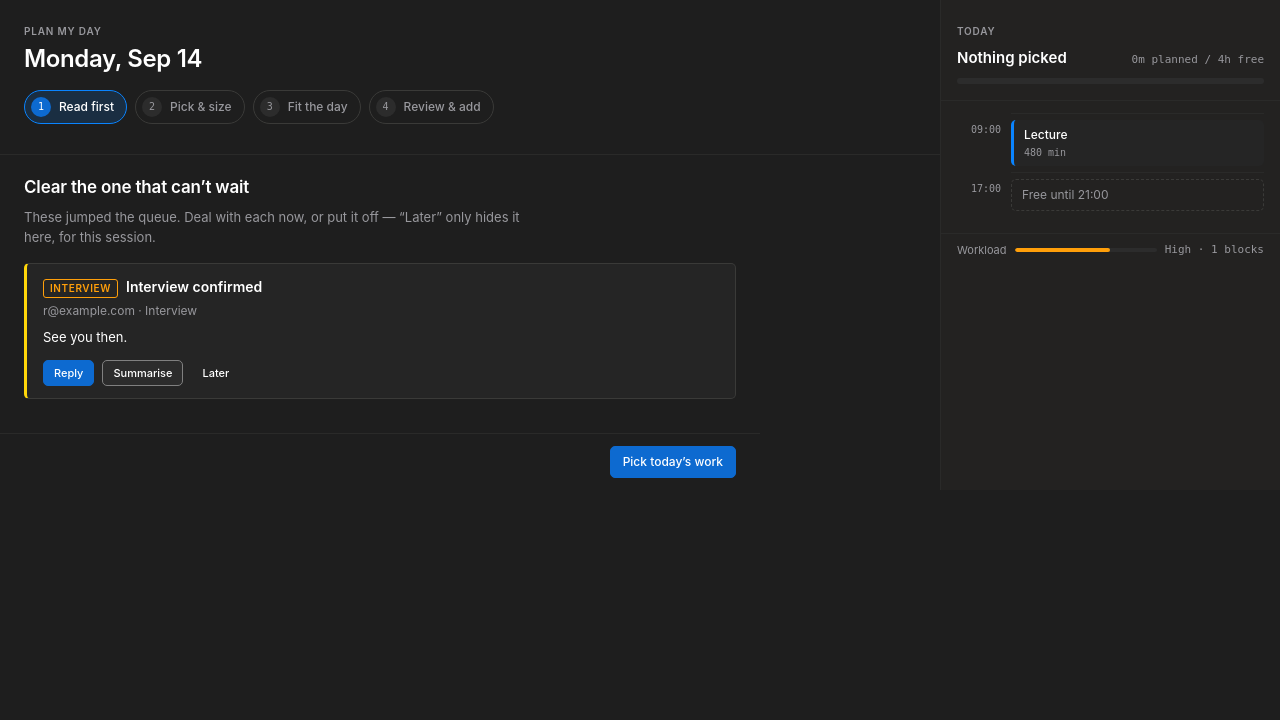
Test: Plan my day › puts a must-read off for the session with Later
This screenshot has width=1280, height=720.
Step 1. Click the button "Later" → coordinates (216, 373), box [191, 360, 240, 386]
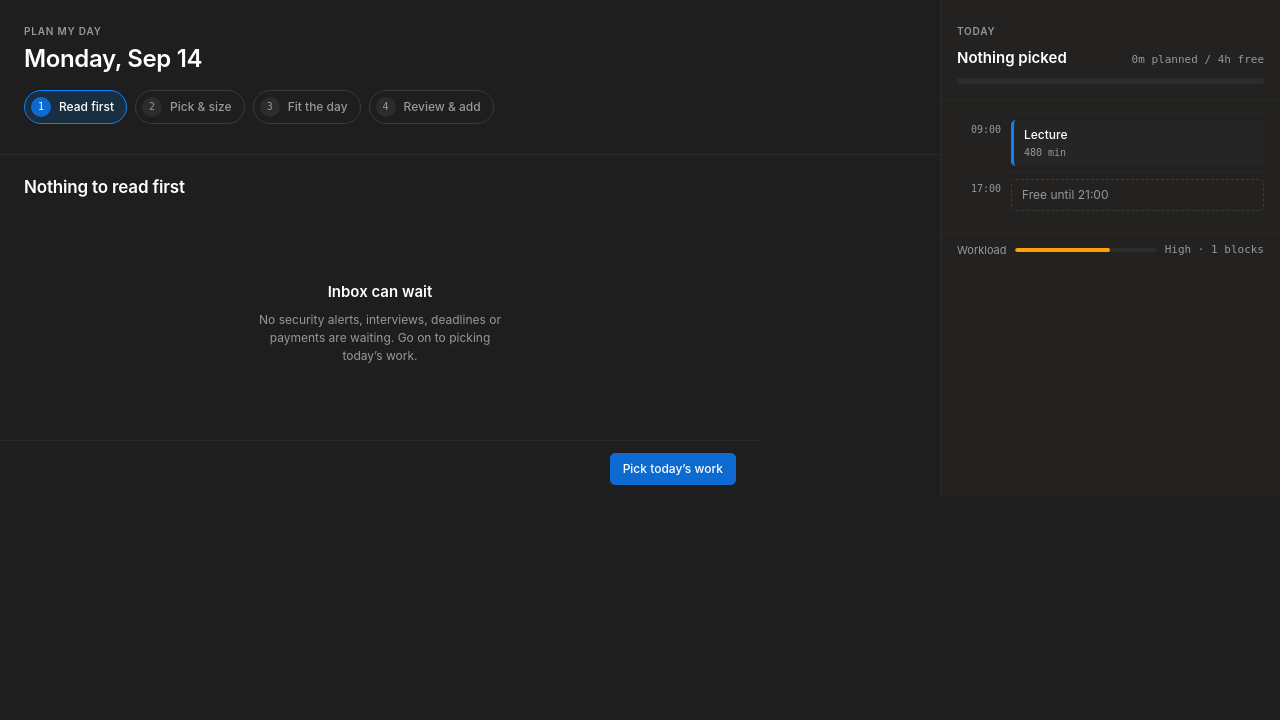
Now the text "Nothing to read first" is shown, box [24, 177, 185, 197]
